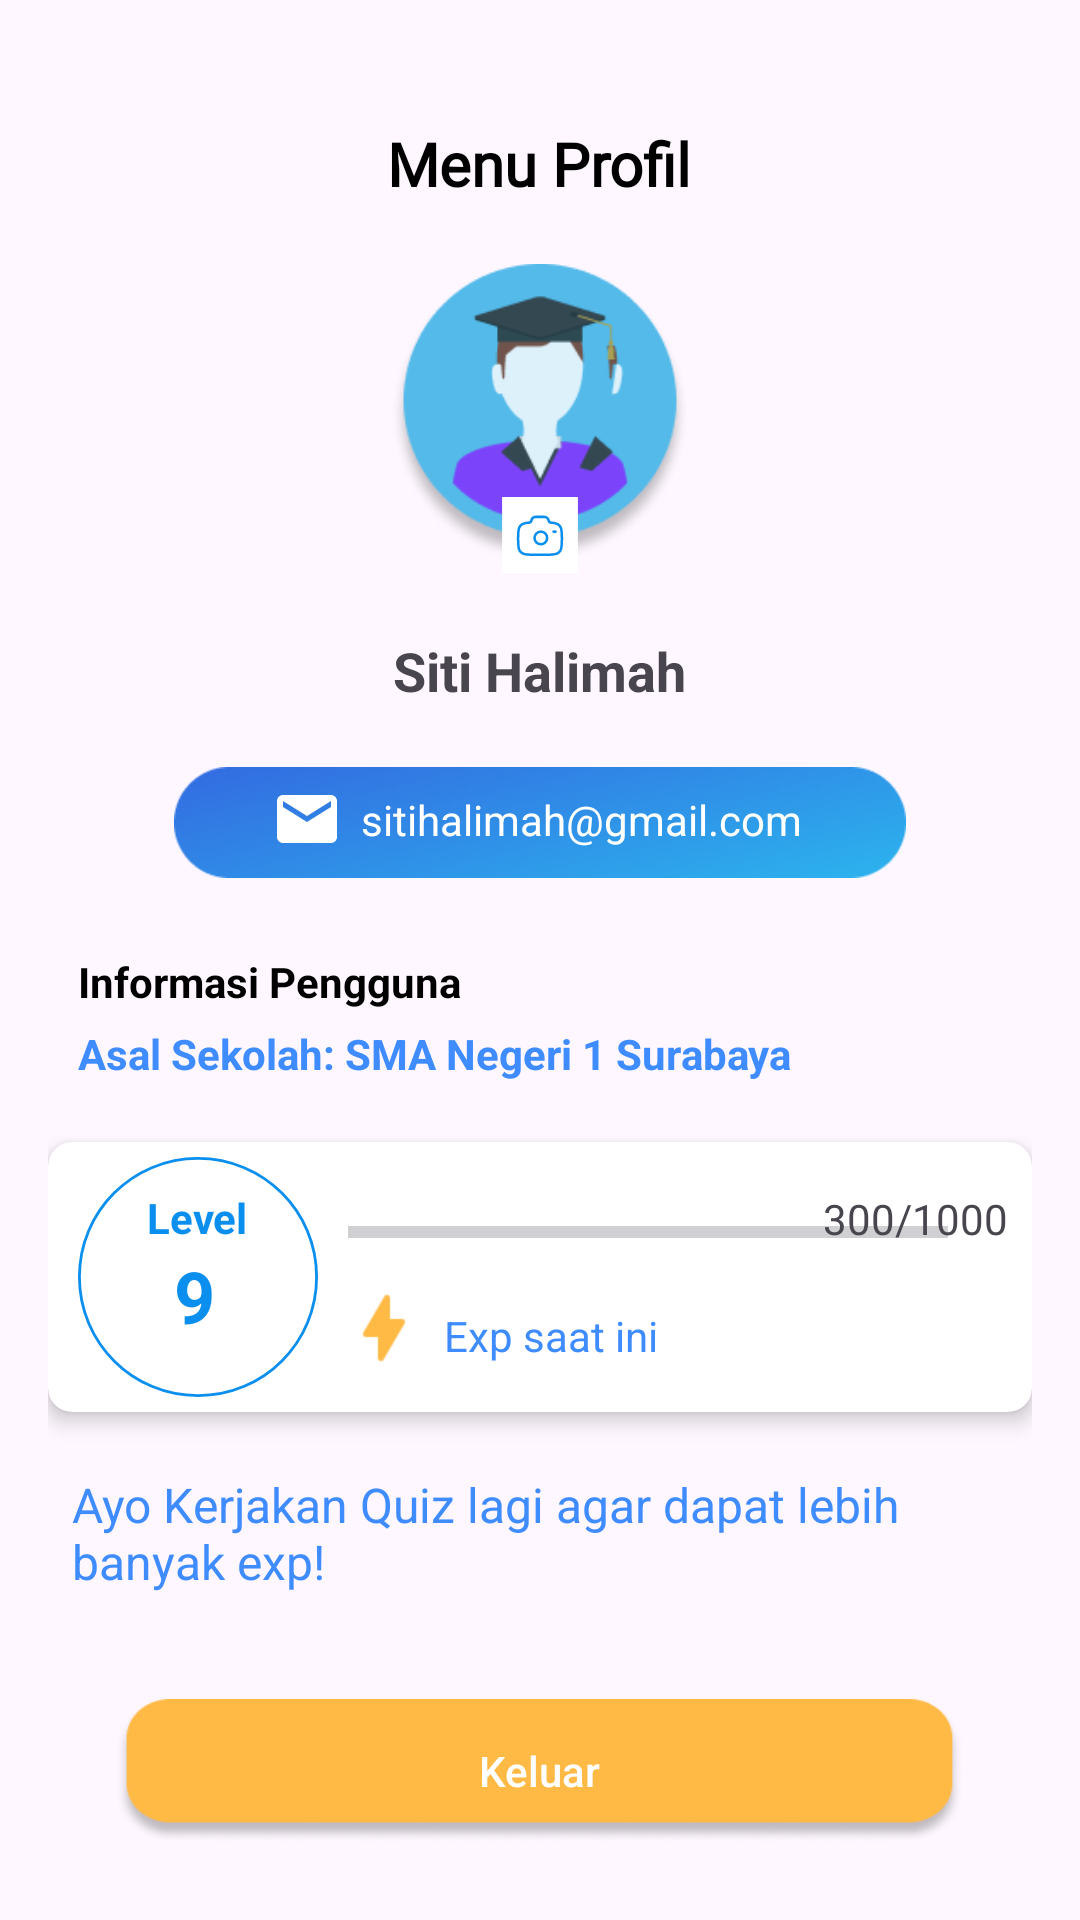

Screen size 1080px x 1920px. Icon name, then its center in pixels as [x,y]:
circle: [198,1277]
lightning: [384,1328]
